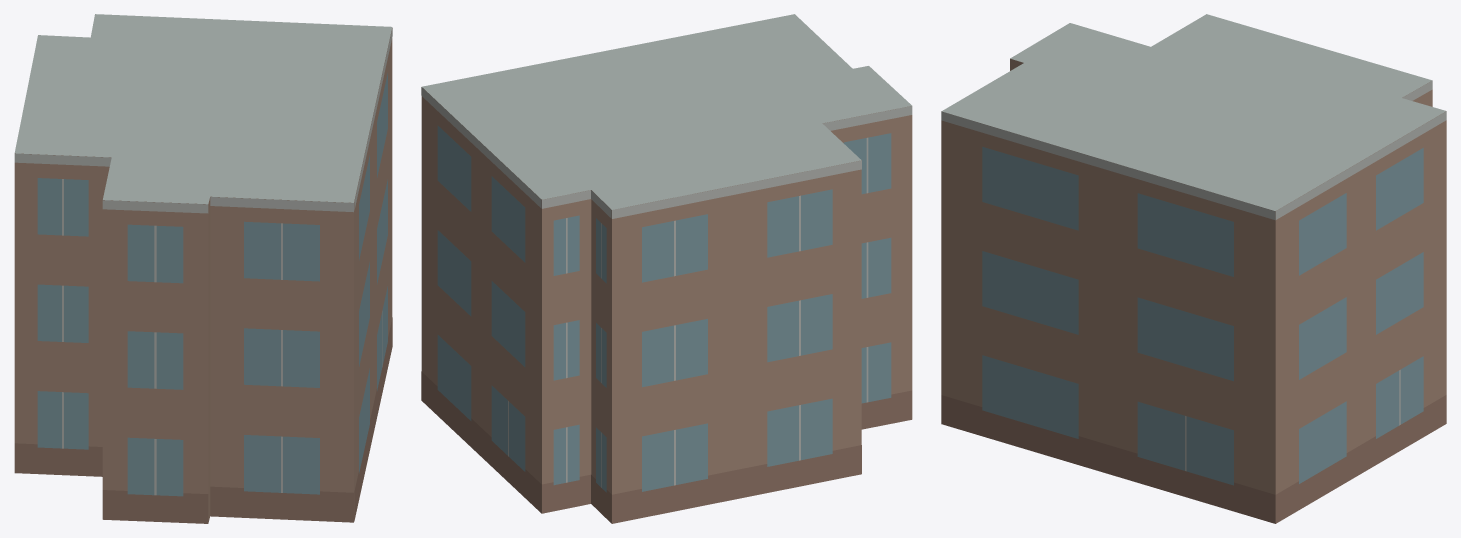
File: survey-upis-32968710.glb
3 views of the same model, side by side, from view 1: azimuth 30°, elevation 25°; view 2: azimuth 150°, elevation 25°; view 3: azimuth 270°, elevation 25° (orthographic). The views are drawn at different scales.
Visible parts, largest first — view 1: survey-upis-32968710.tmp; view 2: survey-upis-32968710.tmp; view 3: survey-upis-32968710.tmp.
Boxes of the visible parts, x1,y1,x2,y2 form: survey-upis-32968710.tmp: (14,14,392,523); survey-upis-32968710.tmp: (421,14,912,523); survey-upis-32968710.tmp: (941,14,1446,523).
Bounding box in the file's own units: 11.37 × 8.4 × 12.31.
